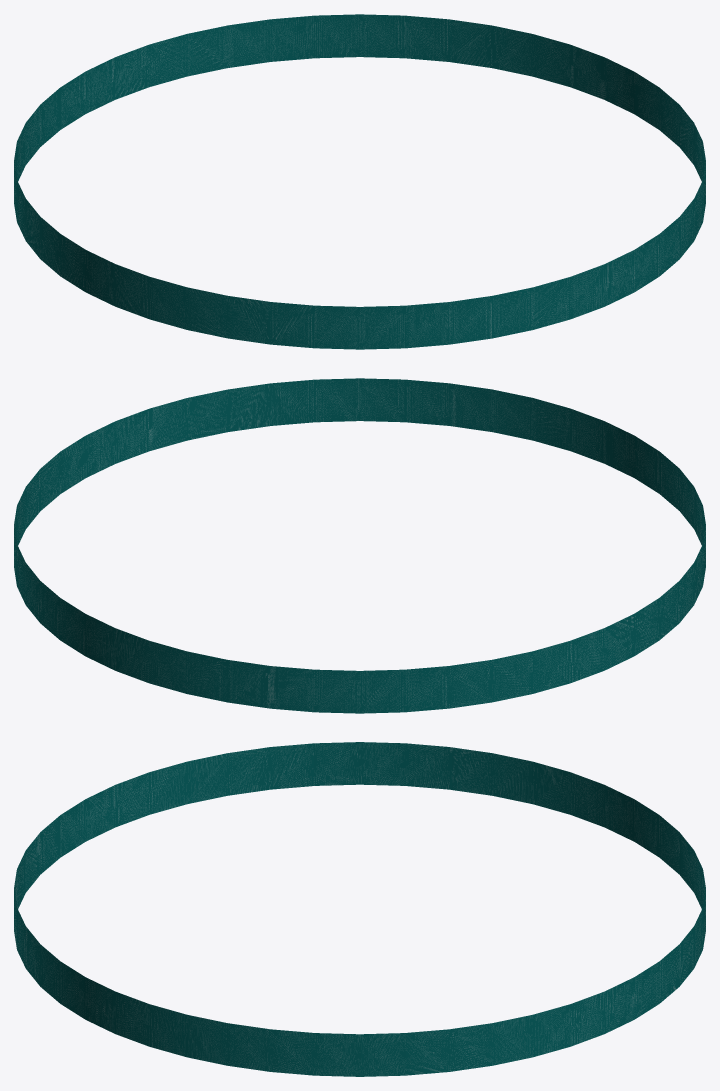
File: original-8.obj
3 views of the same model, one above another, from view 1: azimuth 30°, elevation 25°; view 2: azimuth 150°, elevation 25°; view 3: azimuth 270°, elevation 25° (orthographic).
Visible parts, largest first — view 1: #ID48; view 2: #ID48; view 3: #ID48.
Boxes of the visible parts, x1,y1,x2,y2 form: #ID48: (14,14,705,349); #ID48: (14,378,705,713); #ID48: (14,742,705,1076).
Size of the model in its own units: 1.62 by 0.1101 by 1.62.
